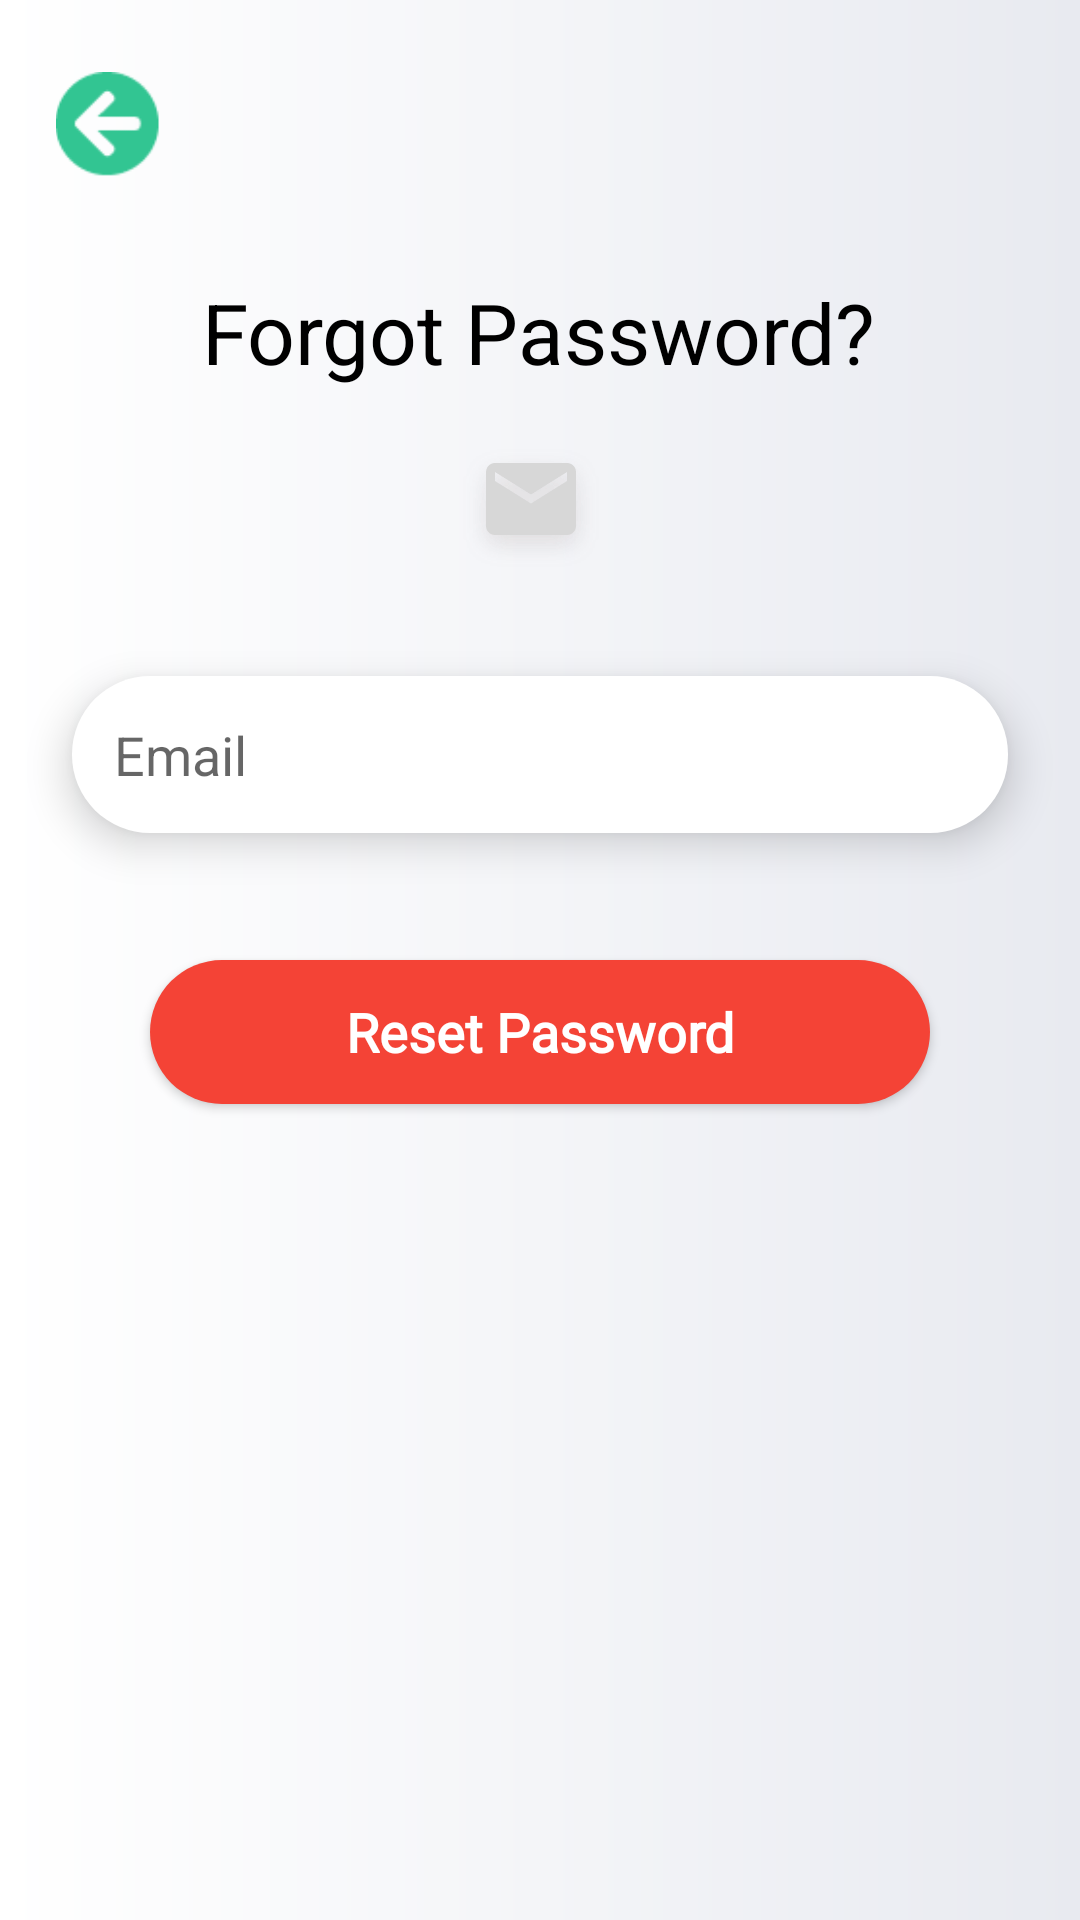

Icon click points for this 1080 x 1920 phone screenshot, format (x=x, y=y):
signupabackbutton: (x=107, y=124)
